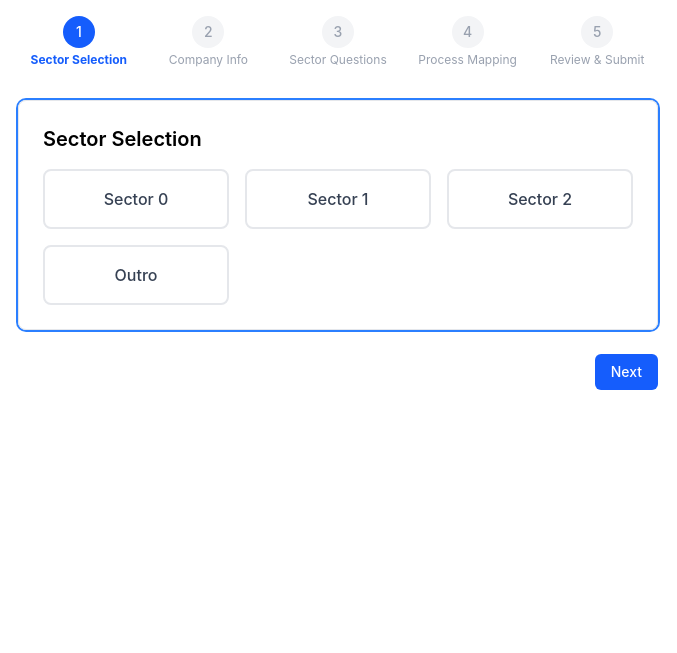
it: ScanForm — Step 2 Validation › advances from step 2 after filling required fields
Click the button "Sector 0" at (136, 199), box [43,169,229,229]
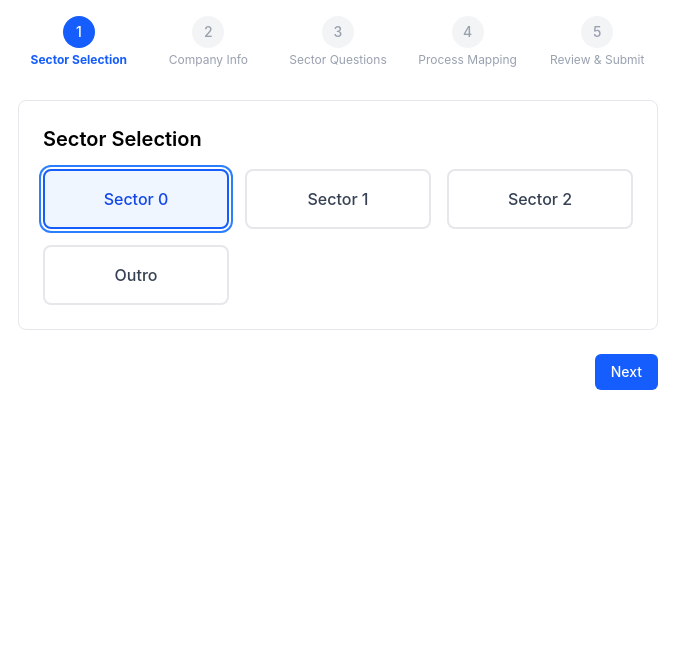
Click the button "Next" at (626, 372), box [595,354,658,390]
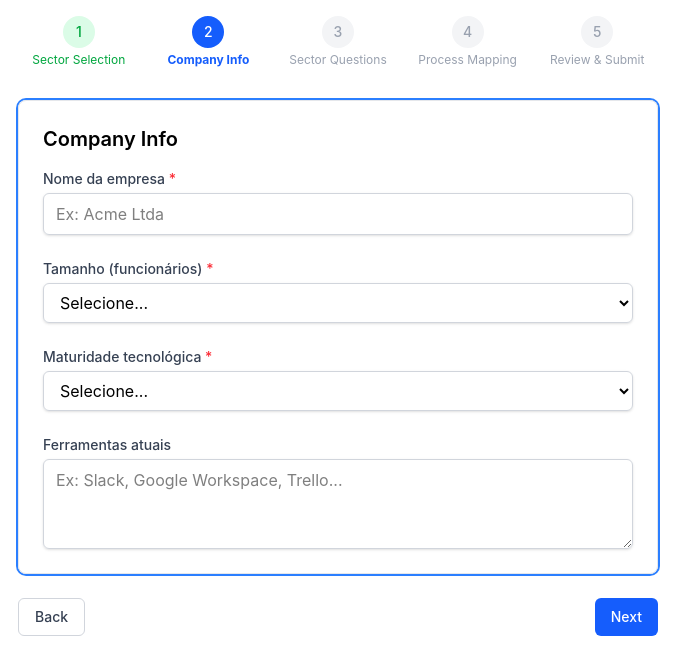
Type "Acme Corp" into the field labelled "Nome da empresa *" at (338, 214), box [43,193,633,235]
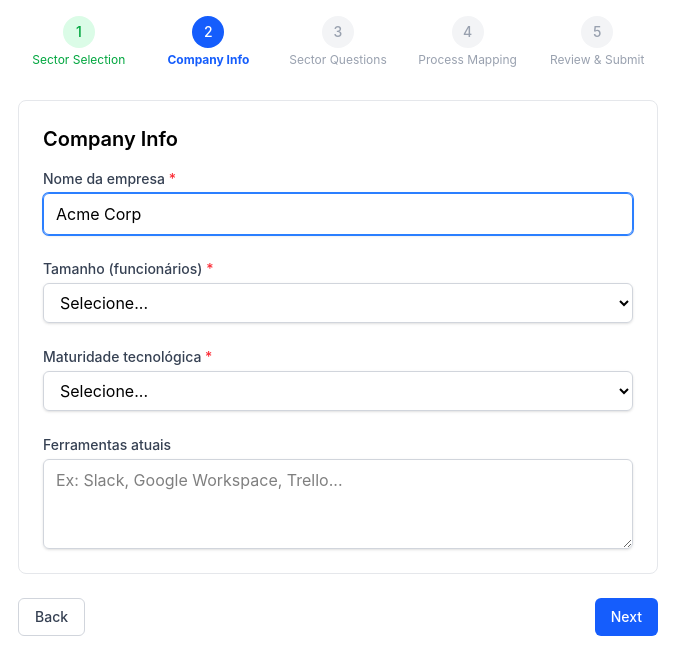
Select "11-50" in the dropdown labelled "Tamanho (funcionários) *" at (338, 303), box [43,283,633,323]
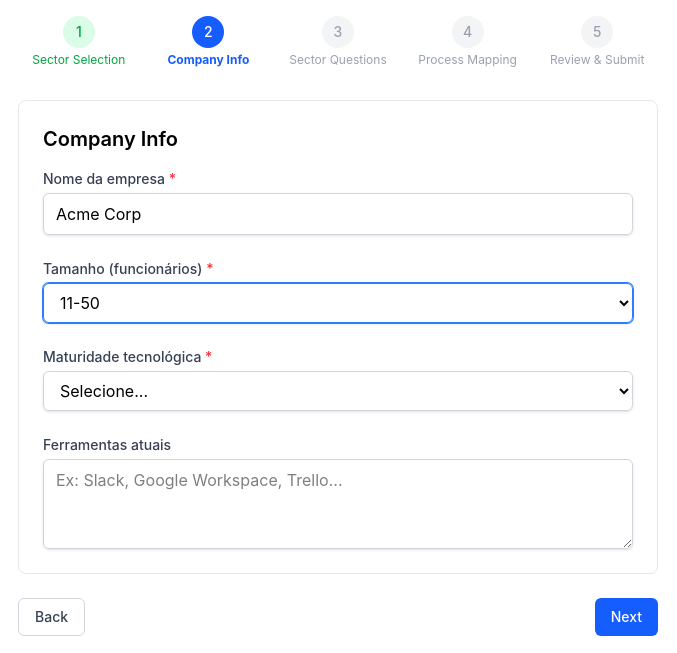
Select "Média" in the dropdown labelled "Maturidade tecnológica *" at (338, 391), box [43,371,633,411]
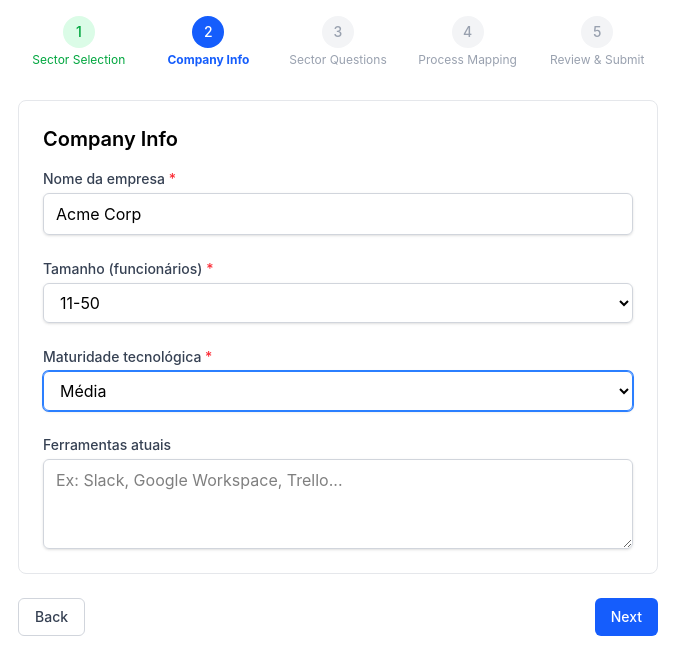
Click the button "Next" at (626, 617), box [595,598,658,636]
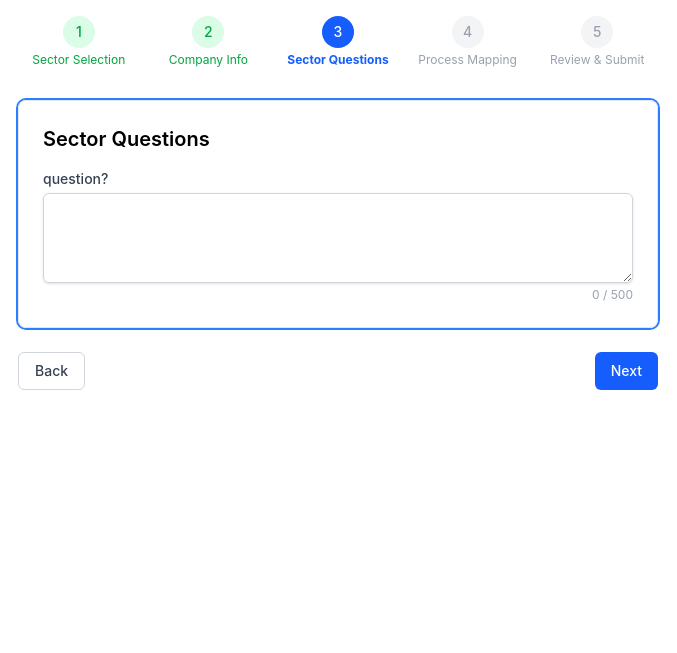
Expected: the element with test id "step-3" is shown, [18,100,658,328]
